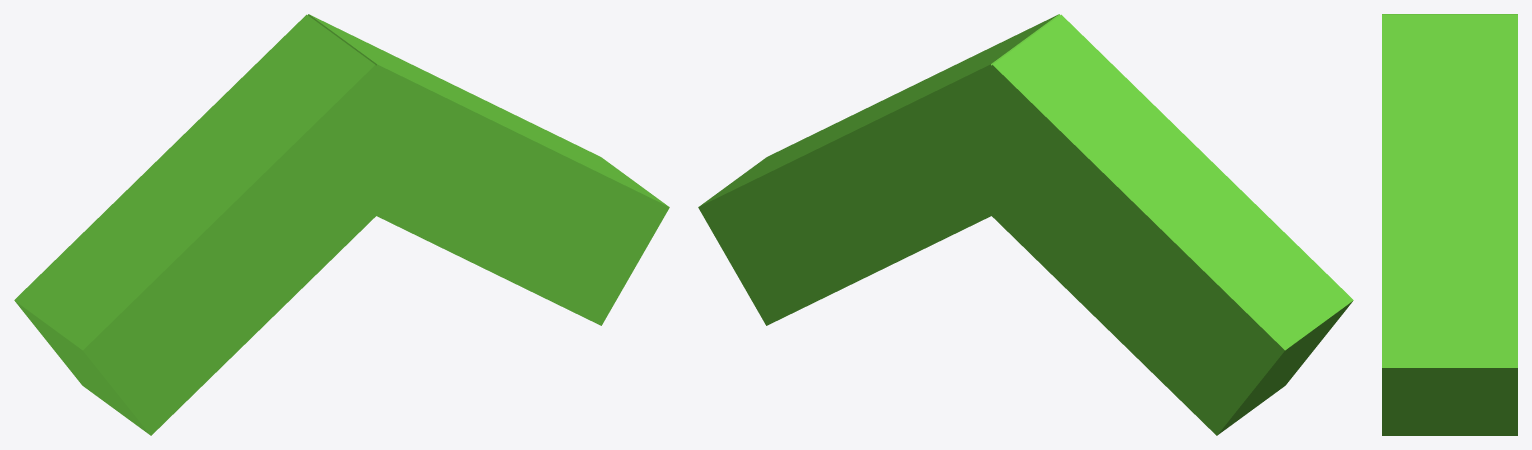
Rendered from slope35.dae.
3 renders of one model, left to right at view 1: azimuth 30°, elevation 25°; view 2: azimuth 150°, elevation 25°; view 3: azimuth 270°, elevation 25°, orthographic.
Parts seen in each view (by area): view 1: Cube_025, Cube_024; view 2: Cube_025, Cube_024; view 3: Cube_024.
Boxes of the visible parts, box(x1,y1,x2,y2) form: Cube_025: box(14, 14, 375, 435); Cube_024: box(308, 14, 669, 325); Cube_025: box(924, 14, 1353, 435); Cube_024: box(698, 14, 1059, 325); Cube_024: box(1382, 15, 1517, 435).
Size of the model in its own units: 9.86 by 2 by 5.08.
